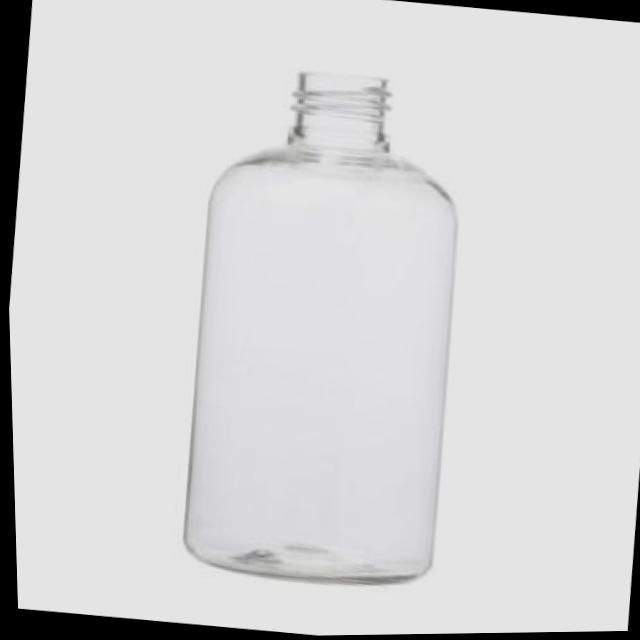anorganik: (142, 43, 495, 606)
